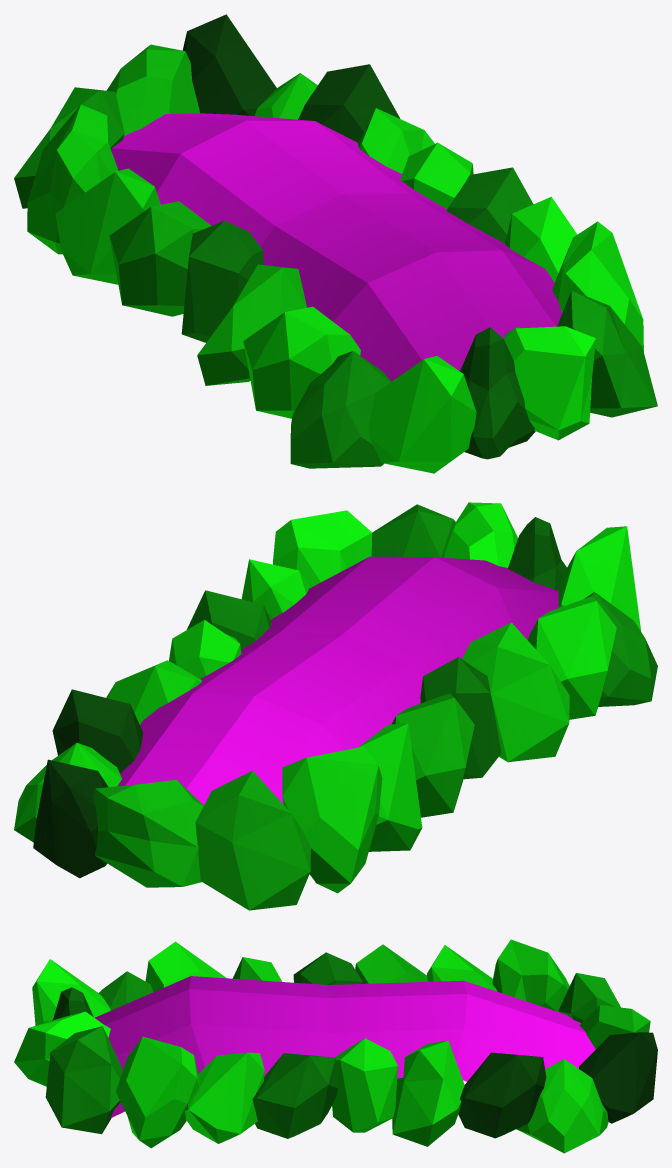
Rendered from FlowerBed.fbx.
3 views of the same model, one above another, from view 1: azimuth 30°, elevation 25°; view 2: azimuth 150°, elevation 25°; view 3: azimuth 270°, elevation 25° (orthographic). The views are drawn at different scales.
Parts seen in each view (by area): view 1: FlowerBed; view 2: FlowerBed; view 3: FlowerBed.
Boxes of the visible parts, left/top/right/bottom form: FlowerBed: left=14, top=14, right=657, bottom=473; FlowerBed: left=14, top=502, right=657, bottom=910; FlowerBed: left=14, top=939, right=657, bottom=1153.
Size of the model in its own units: 308 by 114 by 615.
